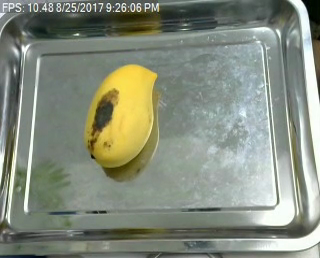Mango: (81, 63, 161, 169)
